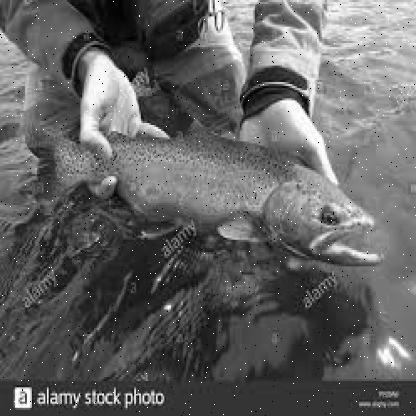fish: (32, 121, 384, 269)
